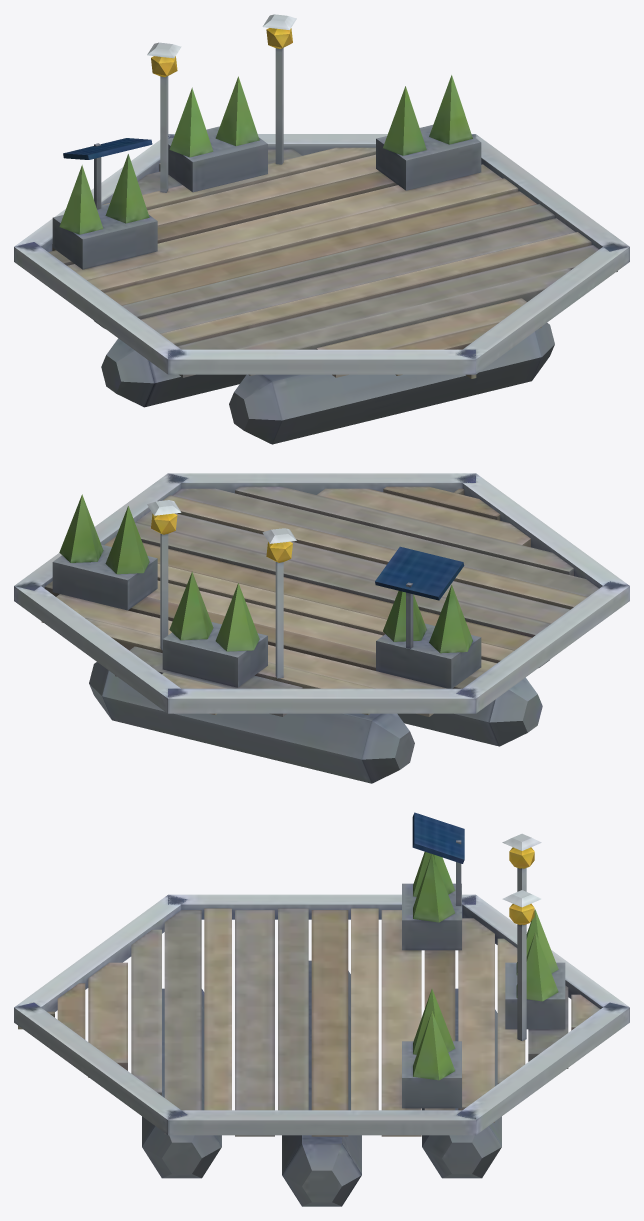
The model's file is raft-c-age20-lite.glb.
The picture shows the model from 3 angles, top to bottom: view 1: azimuth 30°, elevation 25°; view 2: azimuth 150°, elevation 25°; view 3: azimuth 270°, elevation 25°; orthographic projection.
Visible parts, largest first — view 1: raft-c-age20-lite; view 2: raft-c-age20-lite; view 3: raft-c-age20-lite.
Part boxes in pixels (x1=…): raft-c-age20-lite: x1=14, y1=14, x2=629, y2=444; raft-c-age20-lite: x1=14, y1=473, x2=629, y2=783; raft-c-age20-lite: x1=14, y1=812, x2=629, y2=1206.
Size of the model in its own units: 1.6 by 0.8239 by 1.85.
1 material, 1 textured.
